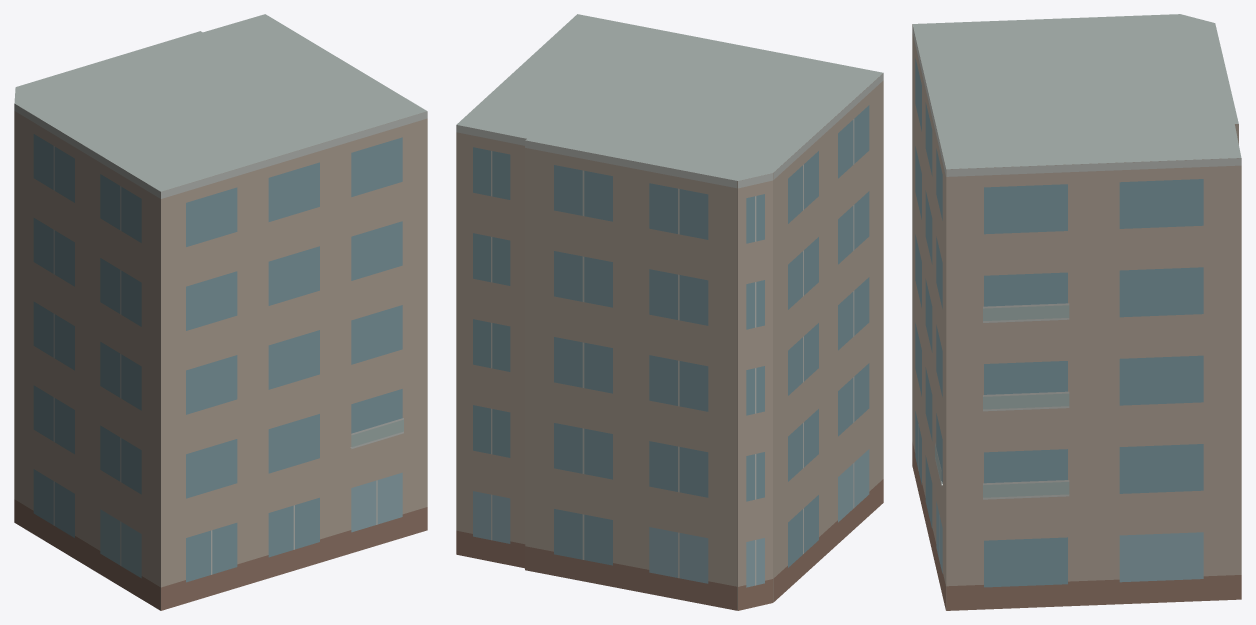
Rendered from survey-upis-32699412.glb.
3 renders of one model, left to right at view 1: azimuth 30°, elevation 25°; view 2: azimuth 150°, elevation 25°; view 3: azimuth 270°, elevation 25°, orthographic. The views are drawn at different scales.
Visible parts, largest first — view 1: survey-upis-32699412.tmp; view 2: survey-upis-32699412.tmp; view 3: survey-upis-32699412.tmp.
Part boxes in pixels (x1,y1,x2,y2): survey-upis-32699412.tmp: (14, 14, 427, 610); survey-upis-32699412.tmp: (456, 14, 883, 610); survey-upis-32699412.tmp: (912, 14, 1241, 610).
Size of the model in its own units: 10.64 by 14.1 by 9.53.
